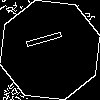I: (25, 25, 72, 51)
